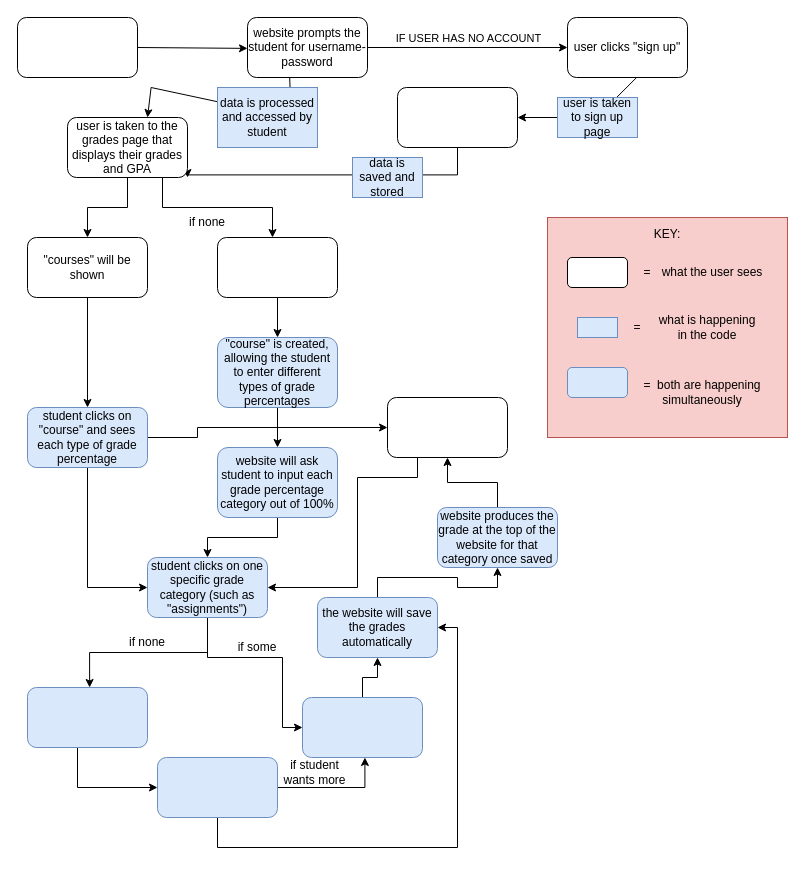
Some shapes in this 805 by 873 pixel diagram are drawn without their labels. Here are the shapes that lost their labels. From the top down, the centre of each, then its label:
point 77,47: Student opens website
point 457,117: user inputs info for account
point 277,267: website will prompt user to create a "course"
point 447,427: Student sees each grade for each category and overall grade of the course
point 87,717: website will ask student to input the number of grades
point 362,727: there will be a button to add individual grades at the top of the grade list
point 217,787: student will input grades (any grade left blank will be discarded)
